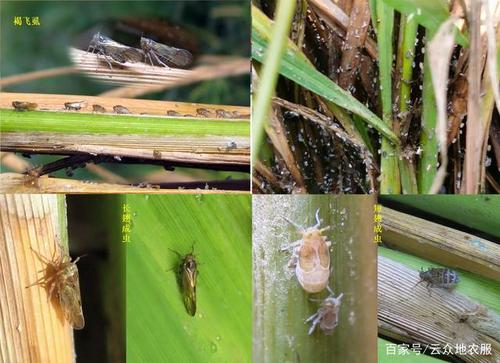Delphacidae: (24, 234, 86, 330), (279, 207, 338, 295), (166, 240, 205, 317), (85, 32, 143, 74), (138, 33, 194, 71), (303, 286, 344, 337), (411, 266, 460, 297)
